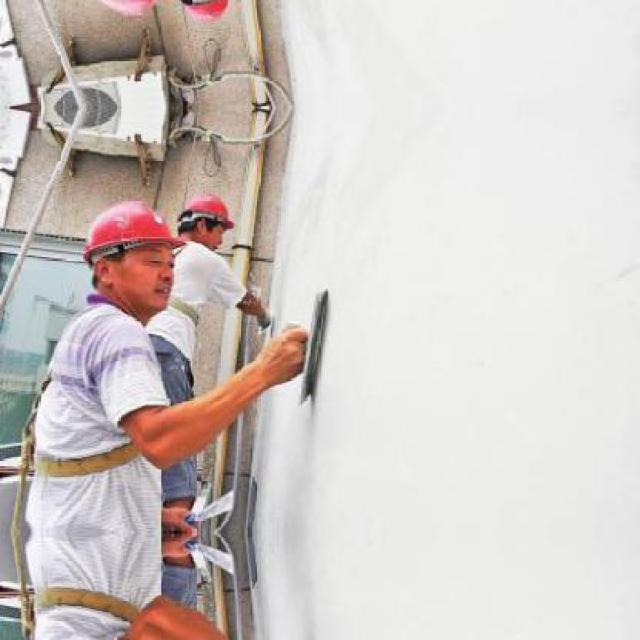helmet: (76, 193, 189, 318), (174, 187, 238, 253), (174, 0, 240, 26)
